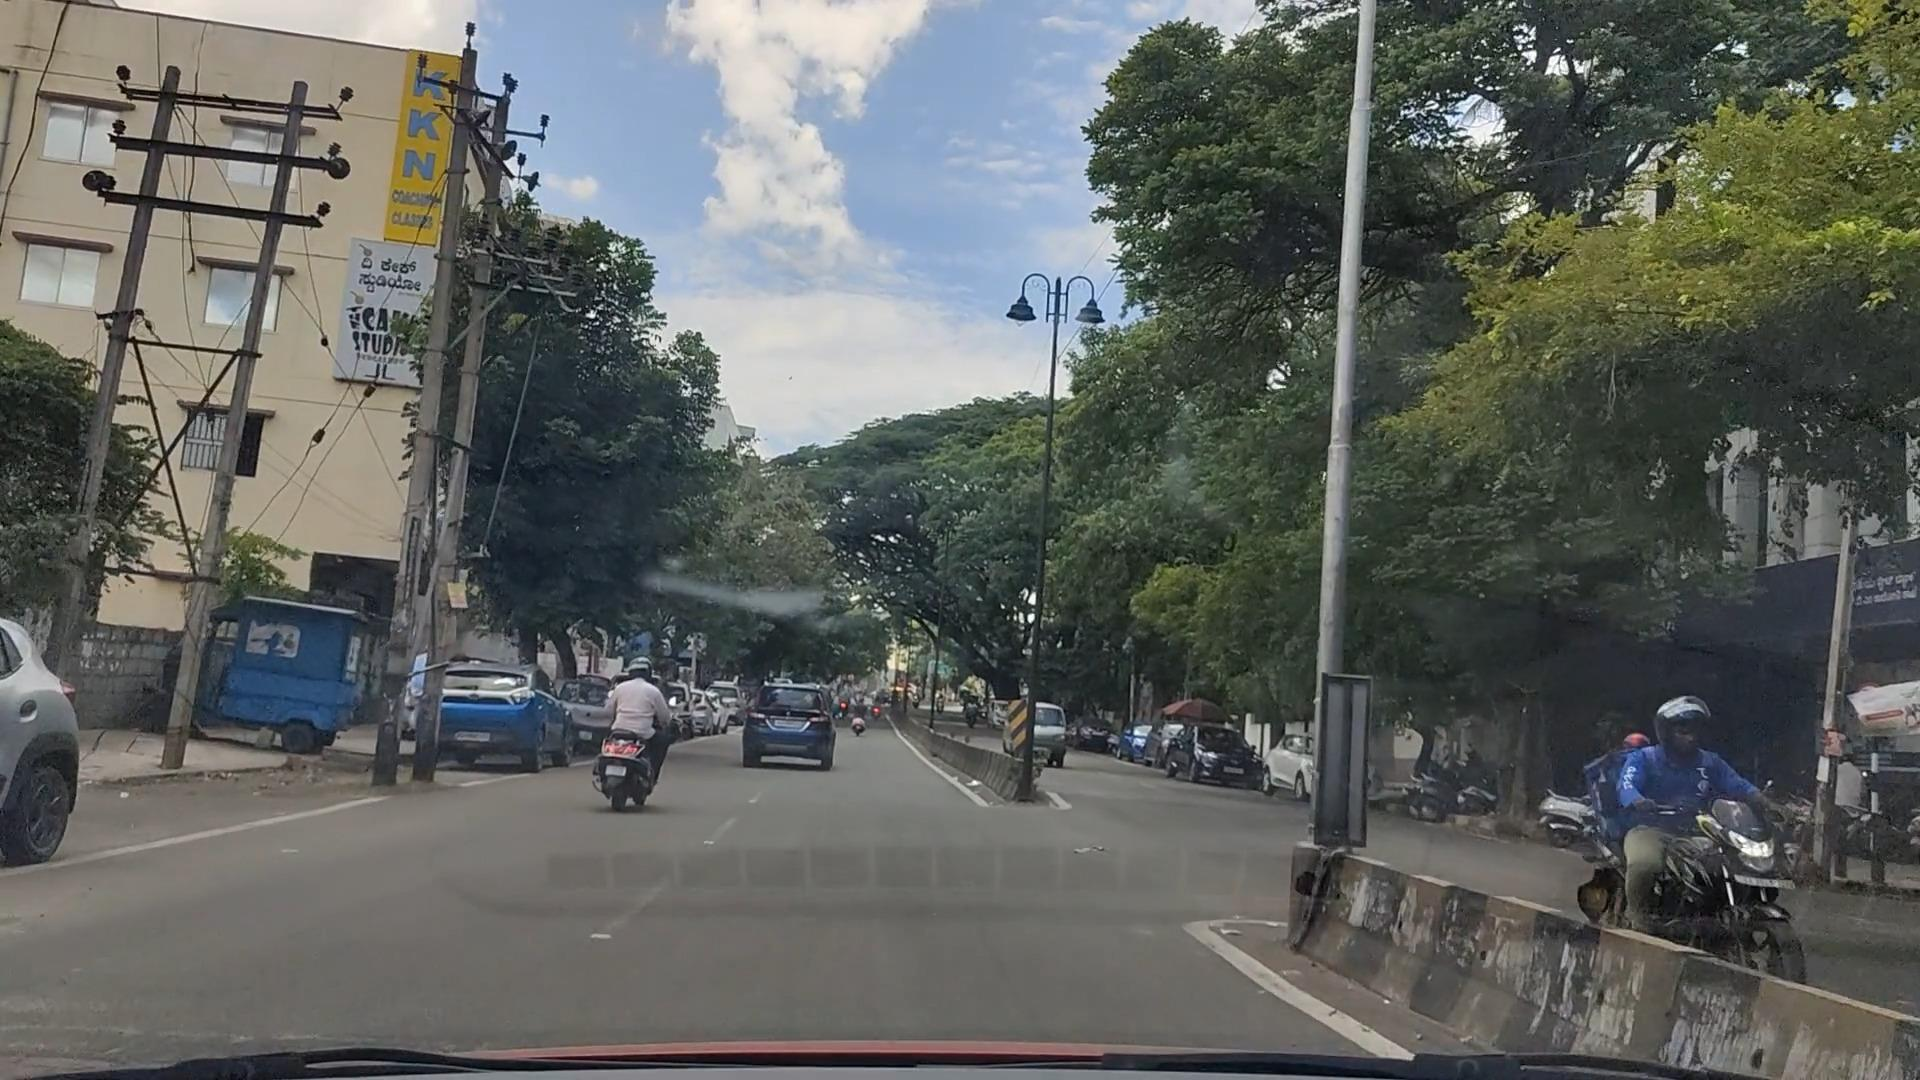LMV: (605, 650, 679, 824), (767, 694, 839, 765)
